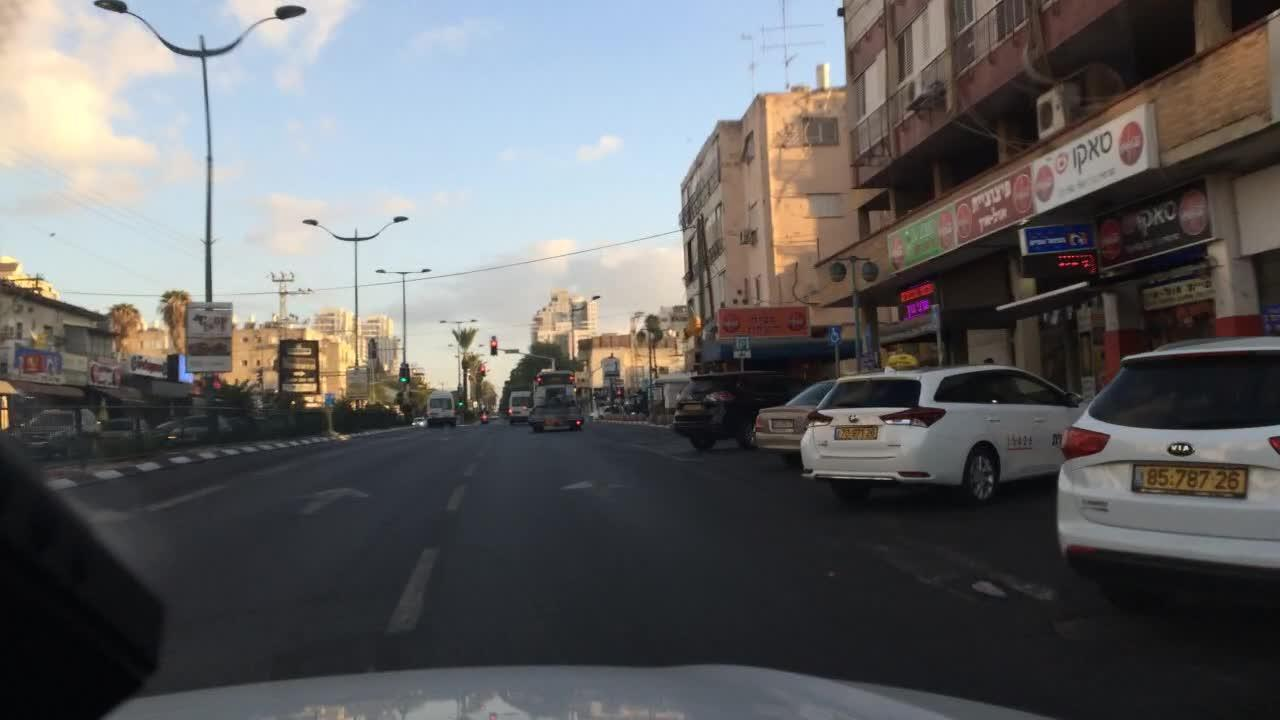Toyota: (849, 413, 858, 424)
kia: (1162, 437, 1204, 461)
